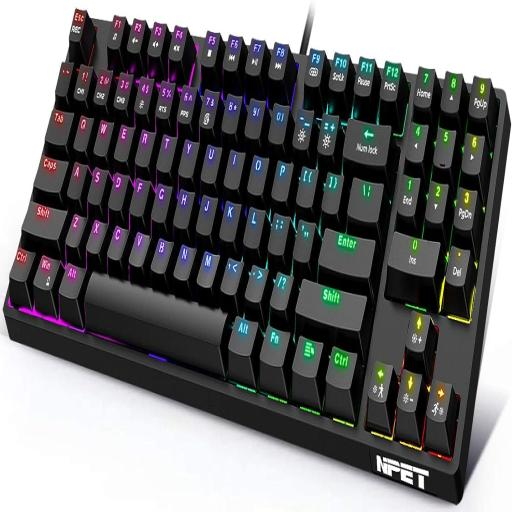keyboard: (4, 7, 500, 509)
